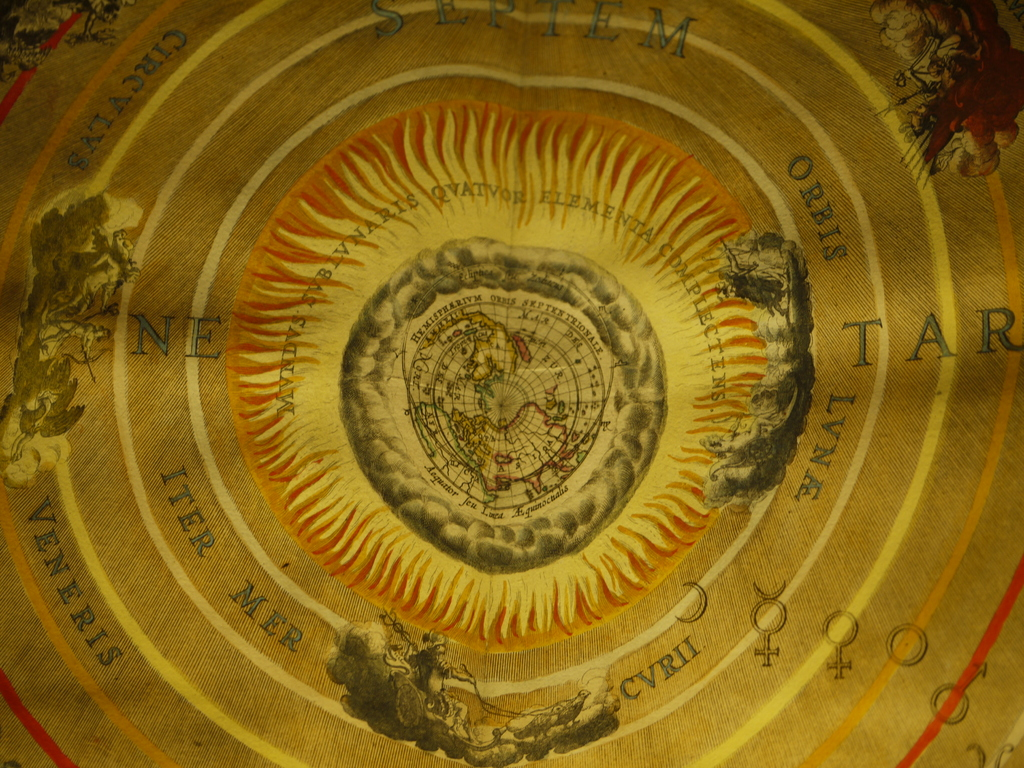plate: (0, 0, 1020, 767)
